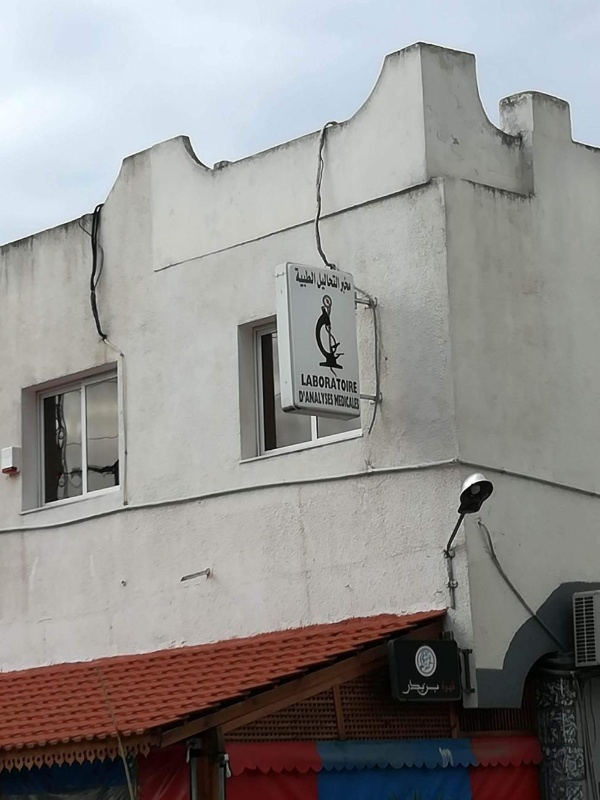text: (321, 271, 336, 293), (305, 373, 320, 394), (321, 373, 336, 394), (337, 373, 352, 394), (417, 679, 432, 697), (305, 267, 317, 289), (402, 679, 416, 697), (337, 394, 352, 410), (341, 274, 352, 295), (305, 390, 320, 405), (294, 267, 304, 289), (321, 390, 335, 405), (353, 373, 361, 394), (440, 679, 448, 695), (449, 679, 457, 695), (353, 394, 361, 410), (433, 679, 440, 697), (300, 373, 304, 394), (299, 390, 304, 405), (317, 271, 320, 293), (337, 271, 340, 293), (333, 394, 336, 410)
